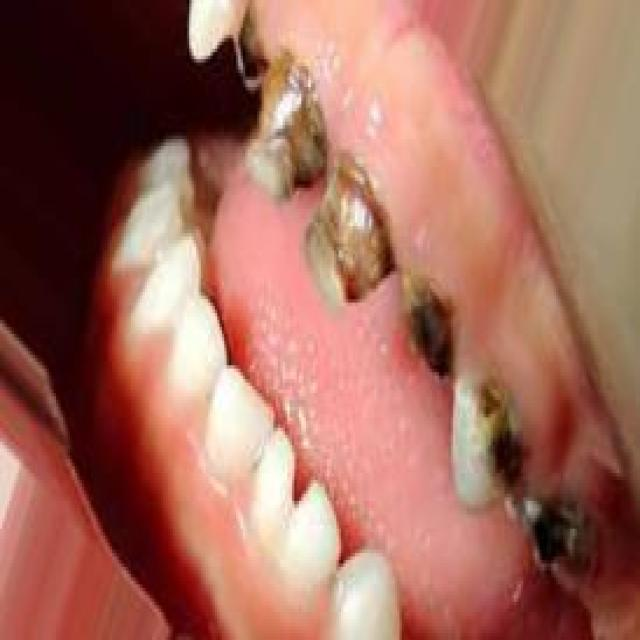caries: (300, 150, 398, 320), (244, 55, 329, 202), (513, 479, 600, 595), (454, 377, 520, 512), (398, 262, 462, 382)
